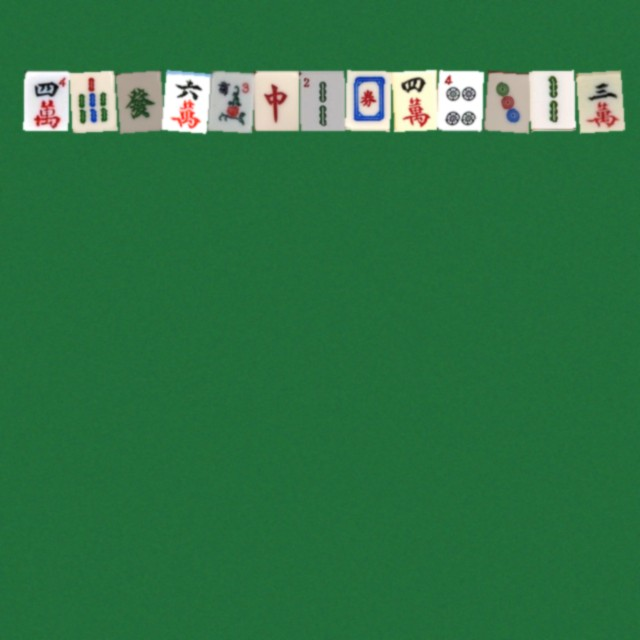tile: (23, 70, 68, 130), (69, 70, 114, 130), (115, 70, 160, 130), (161, 70, 206, 130), (207, 70, 252, 130), (253, 70, 298, 130), (299, 70, 344, 130), (345, 70, 390, 130), (391, 70, 436, 130), (437, 70, 482, 130), (483, 70, 528, 130), (529, 70, 574, 130), (575, 70, 620, 130)
